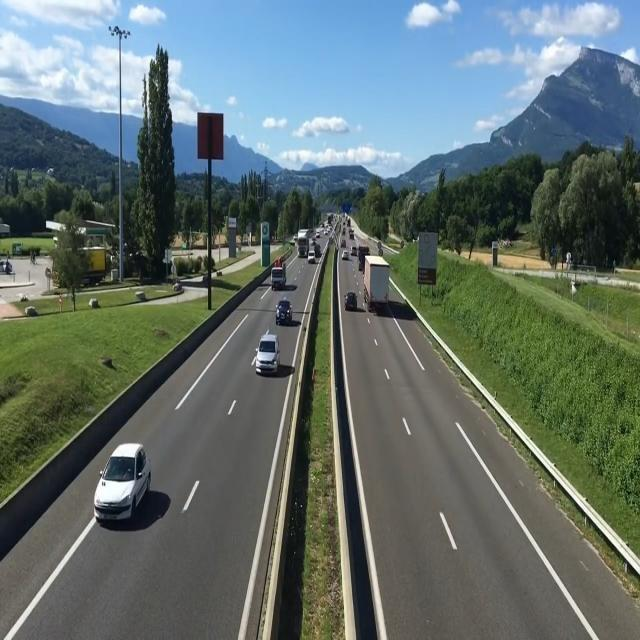Car: (87, 432, 155, 530), (247, 328, 286, 376), (273, 297, 296, 325), (340, 288, 364, 313), (340, 250, 352, 262)
Truck: (364, 256, 394, 307), (291, 230, 312, 260), (269, 260, 287, 291)
Van: (306, 248, 319, 264)
